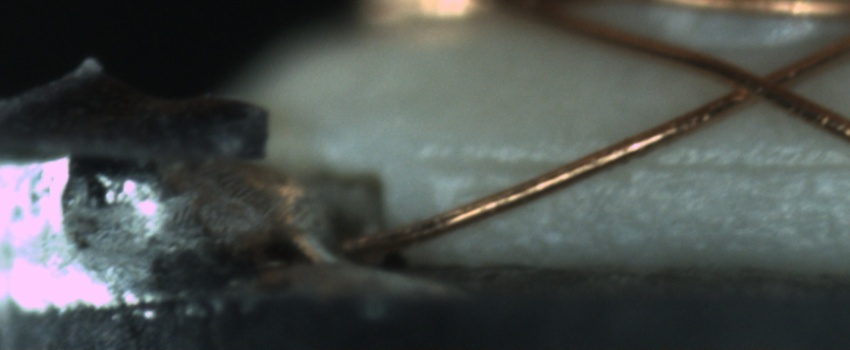CL: (715, 56, 805, 113)
DL: (425, 132, 850, 197)
